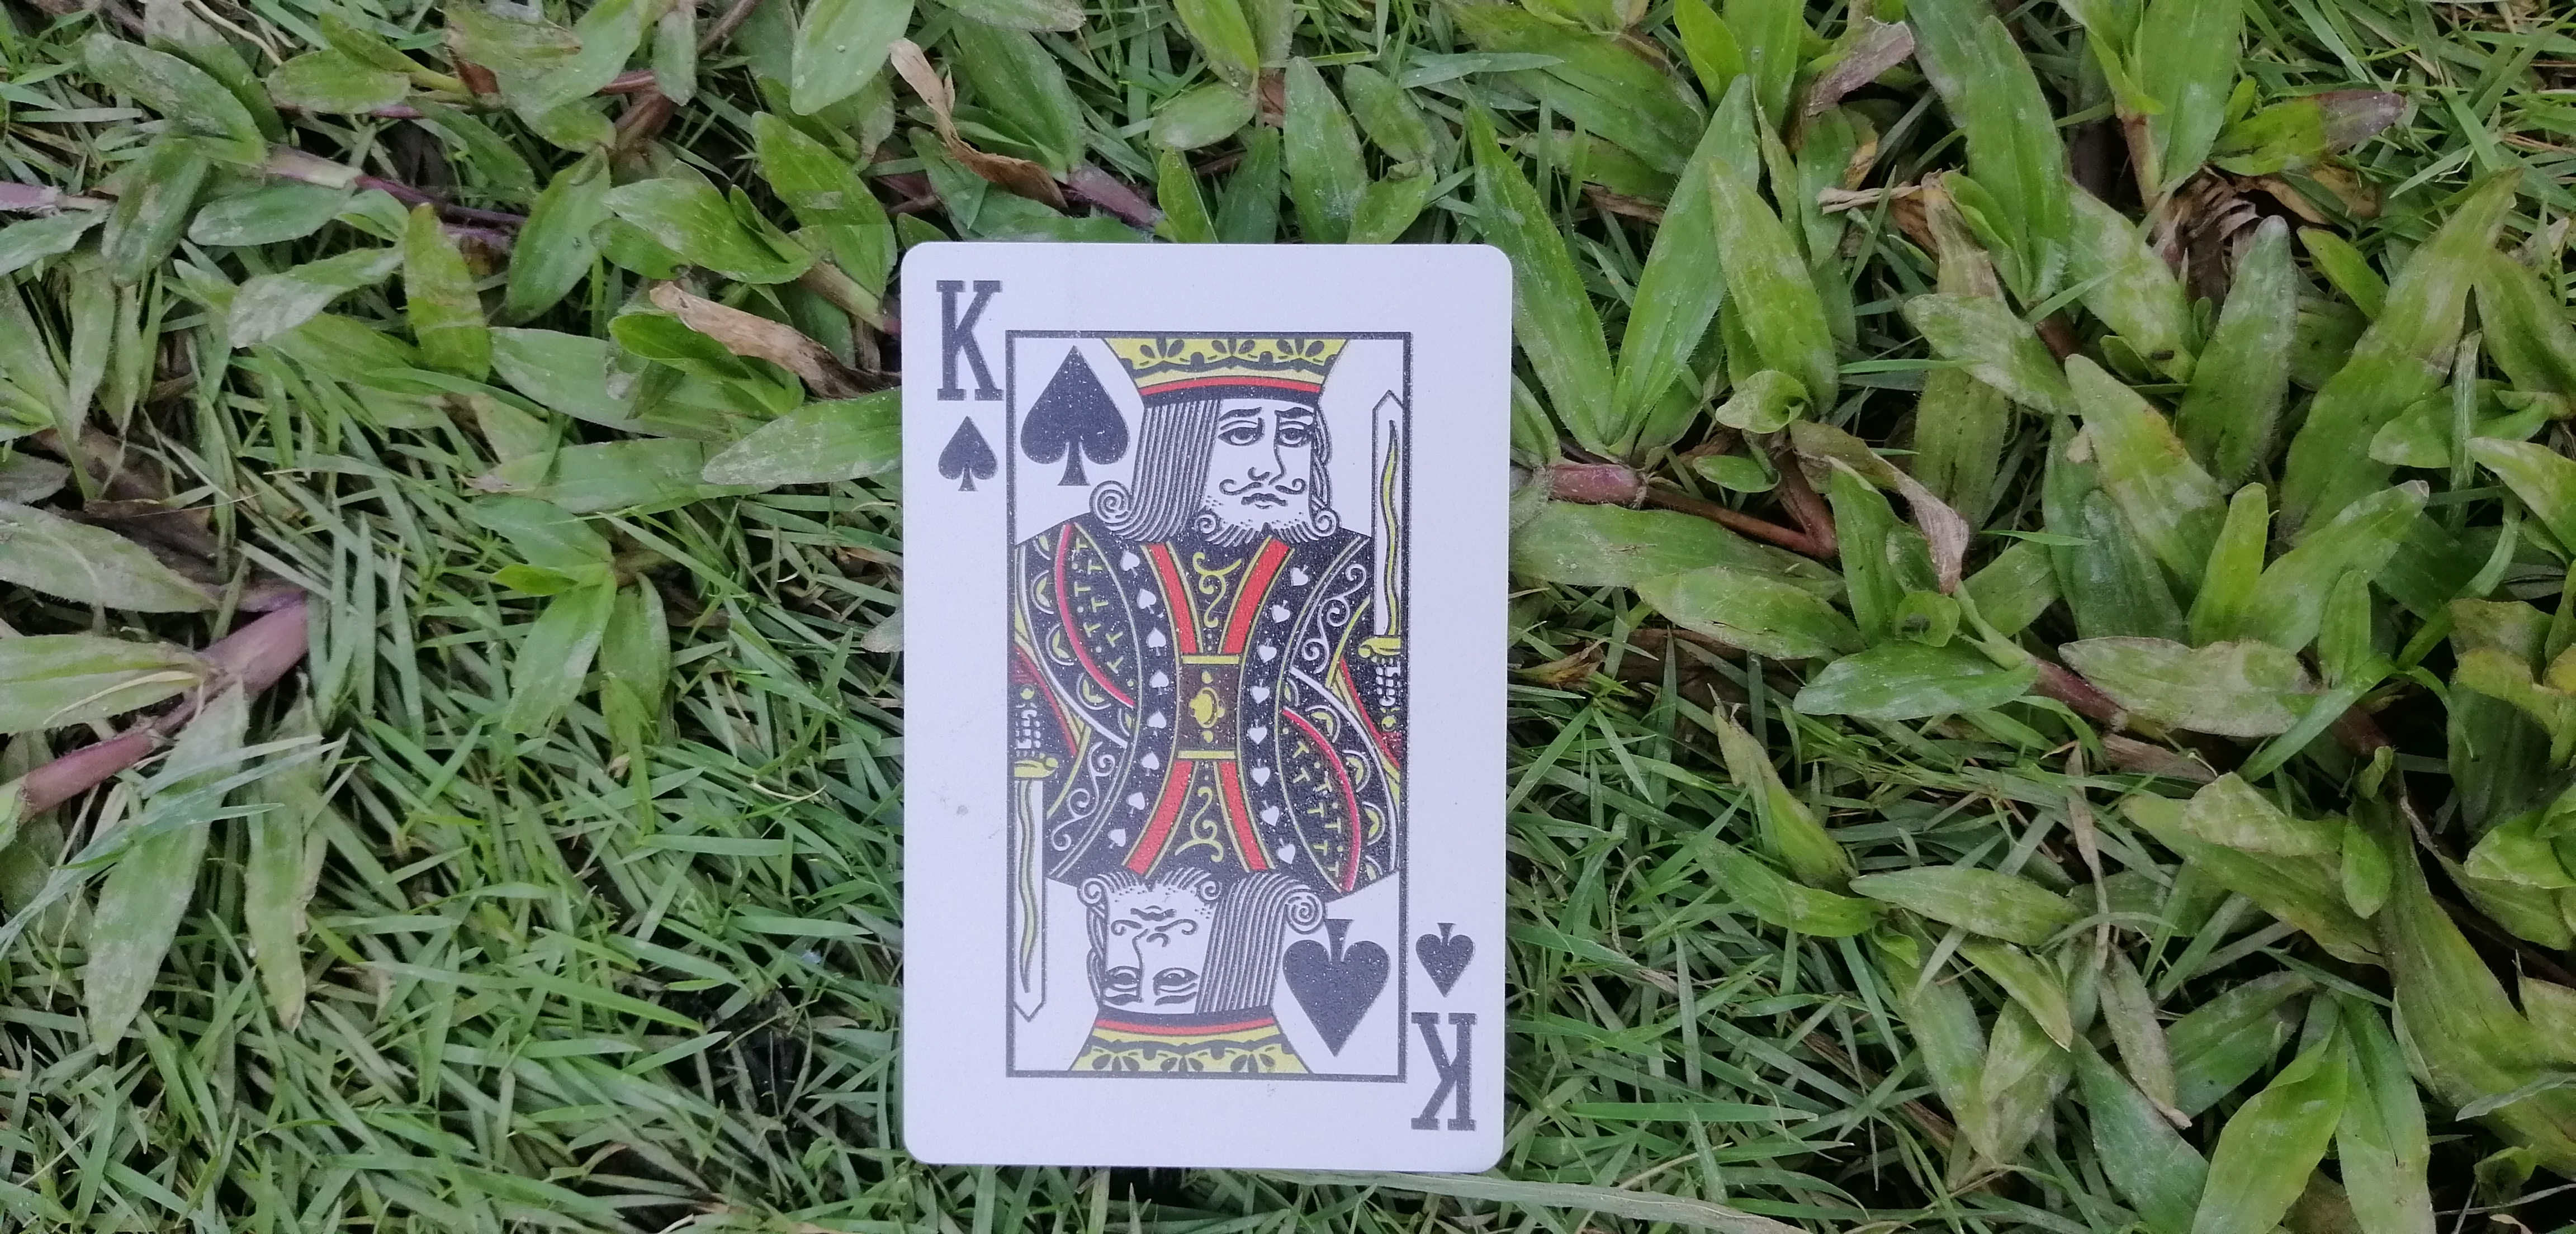king: (838, 187, 1564, 1195)
